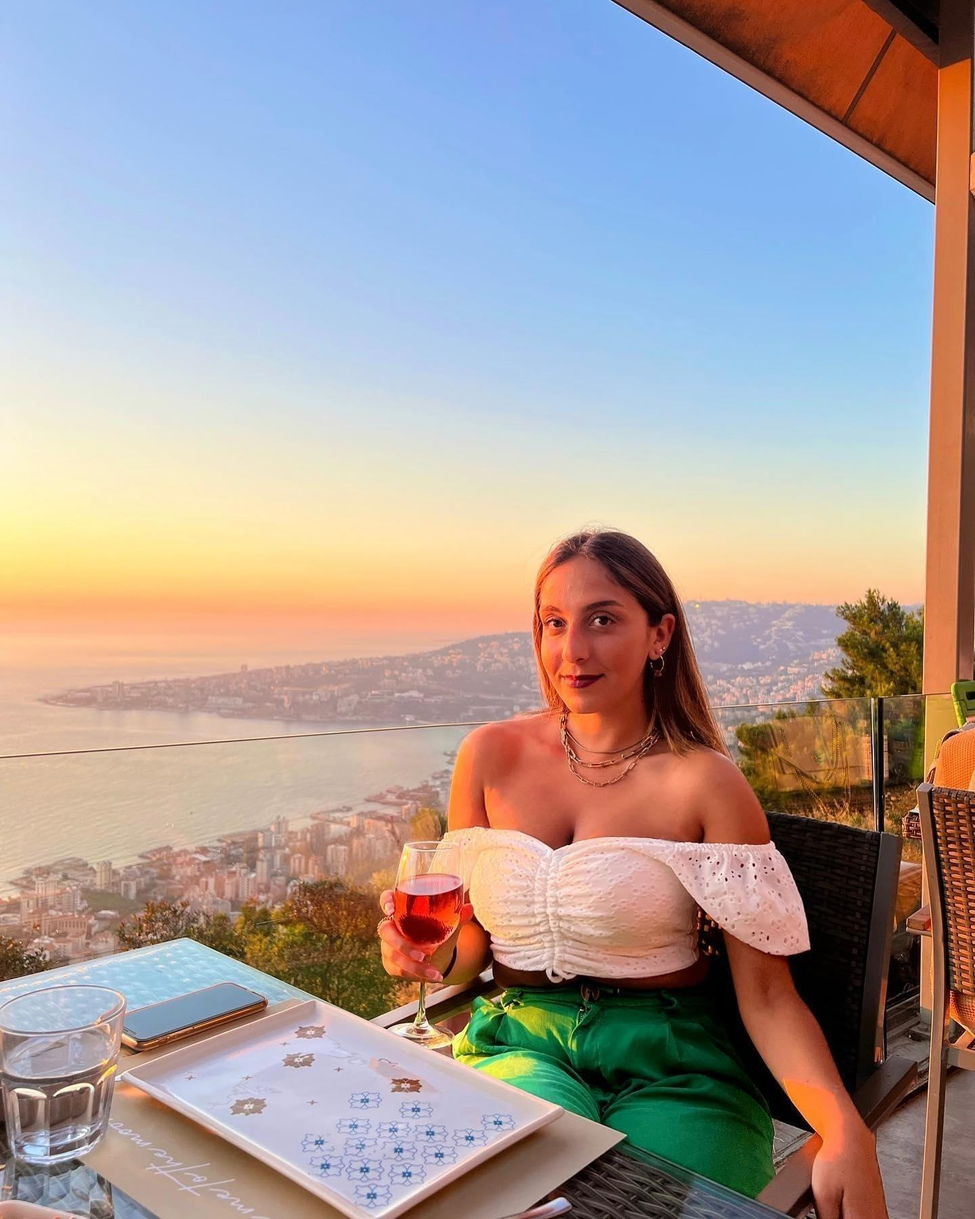glass-normal: (0, 981, 131, 1177)
glass-wine: (391, 838, 473, 1049)
